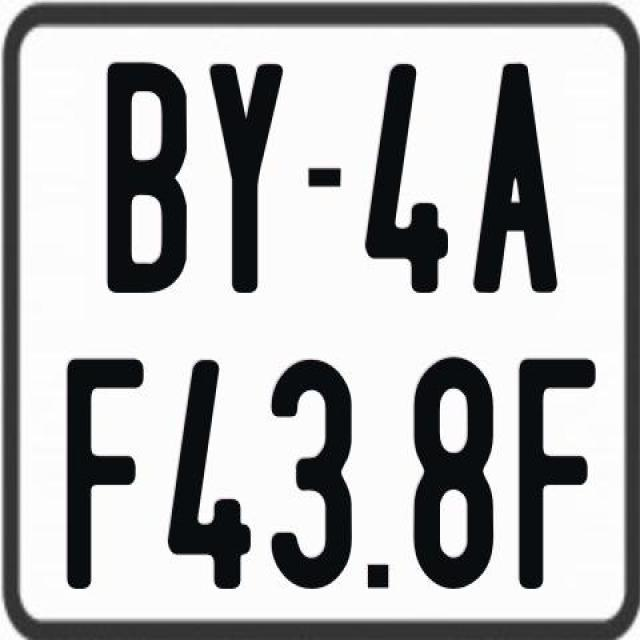3: (272, 358, 358, 597)
4: (365, 64, 452, 301), (166, 355, 252, 592)
8: (410, 352, 490, 586)
A: (473, 64, 558, 299)
B: (106, 62, 186, 293)
F: (66, 356, 152, 590), (514, 355, 598, 592)
Y: (208, 63, 283, 294)
